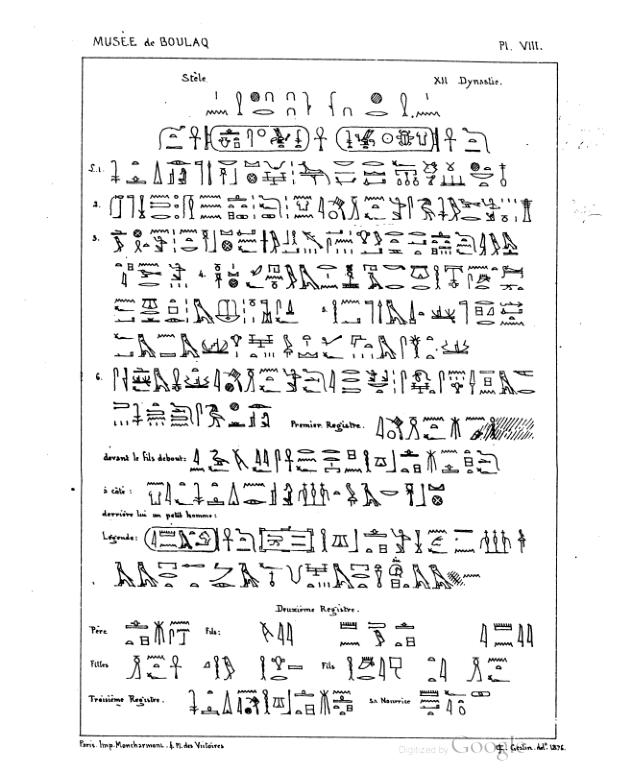circle: (202, 121, 312, 155), (333, 122, 442, 156), (142, 523, 223, 557)
